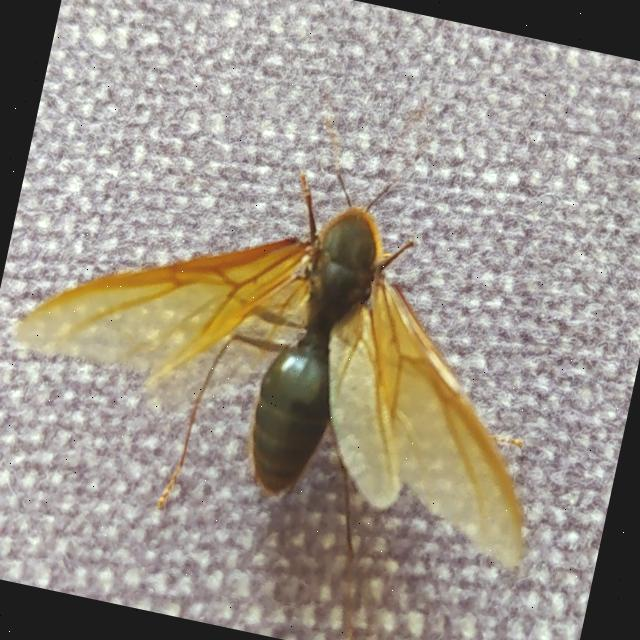Alive-Male-Alate: (0, 63, 604, 640)
